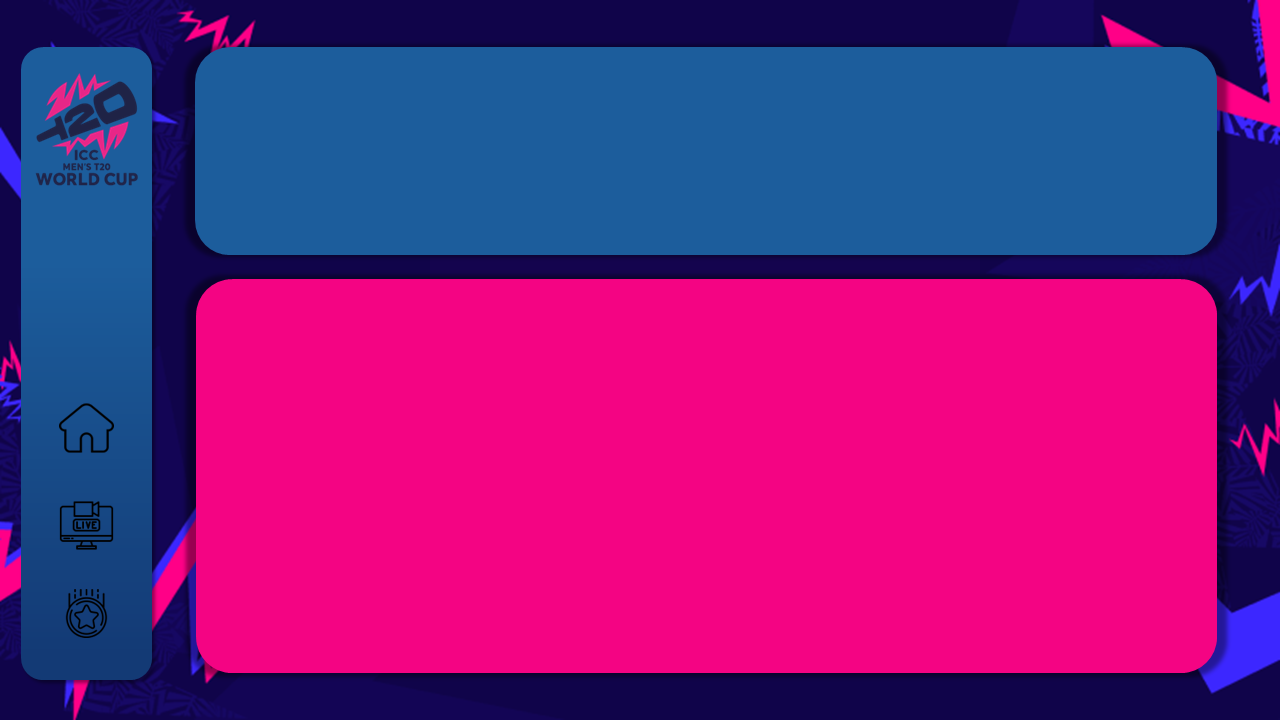

Layout of this report page (visuals, bound fields, positions):
{"tool":"powerbi","page":{"name":"Home","canvas":[1280,720],"ordinal":0},"visuals":[{"type":"actionButton","box":[38.8,566.2,100,82.5],"z":0},{"type":"actionButton","box":[38.8,475,100,91.2],"z":1}]}

Visuals, with their boxes in screenshot pixels (x1, y1, x2, y2), scaled from the page's 1280x720 canvas onto the 1280x720 screenshot:
actionButton: [left=39, top=566, right=139, bottom=649]
actionButton: [left=39, top=475, right=139, bottom=566]
